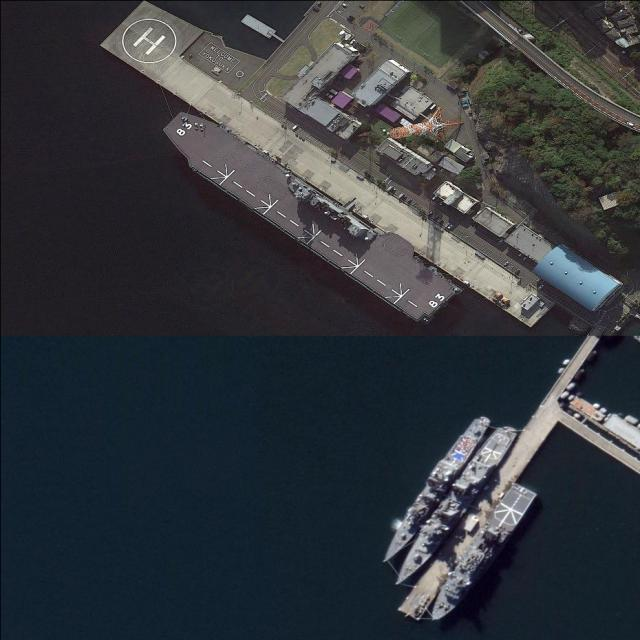Destroyer: (153, 98, 465, 336), (385, 418, 524, 595), (375, 414, 491, 568)
Dock: (399, 408, 556, 623)
